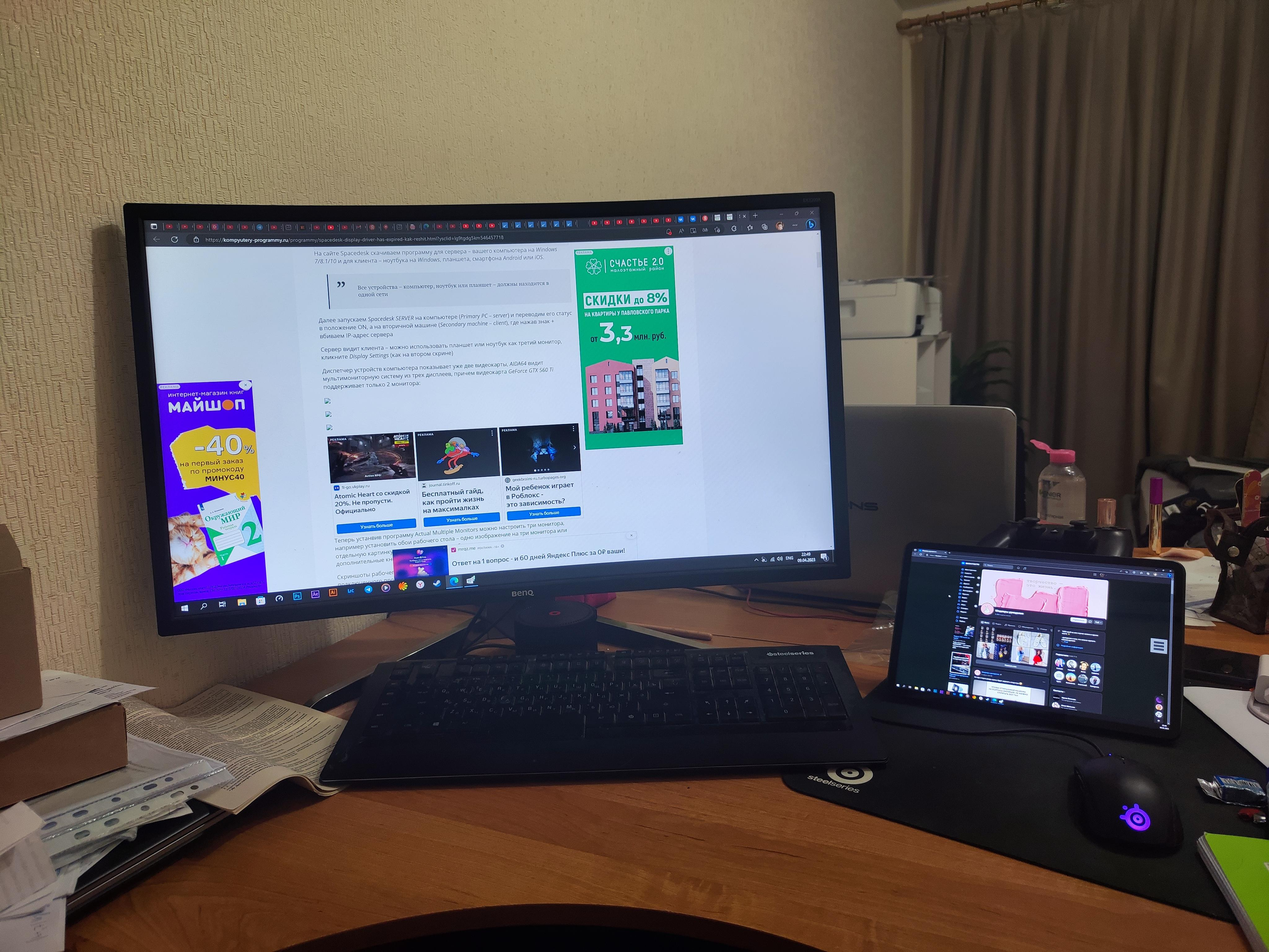monitor: (119, 184, 849, 637), (878, 538, 1191, 749)
